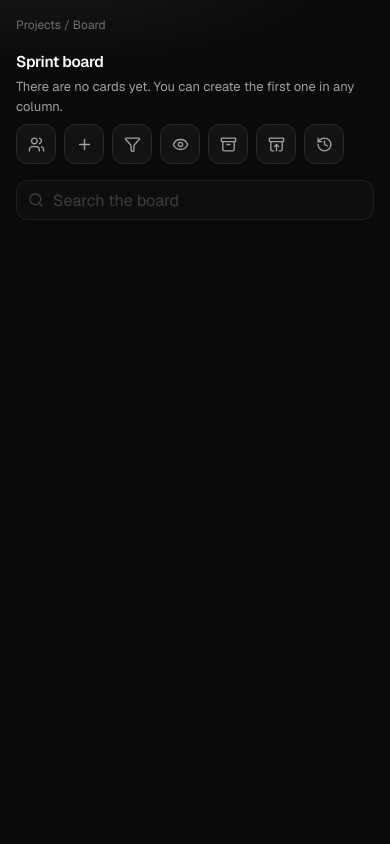
Scenario: BoardHeader › opens the phone members list from the header icon
Click the button named "Members": x=36, y=144 [16,124,56,164]
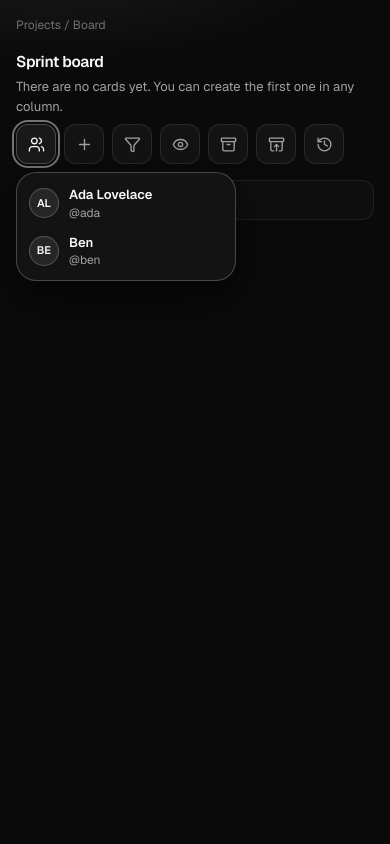
Result: the dialog named "Members" shows "Ada Lovelace" at [69,186,152,203]
Result: the dialog named "Members" shows "Ben" at [69,234,93,251]
